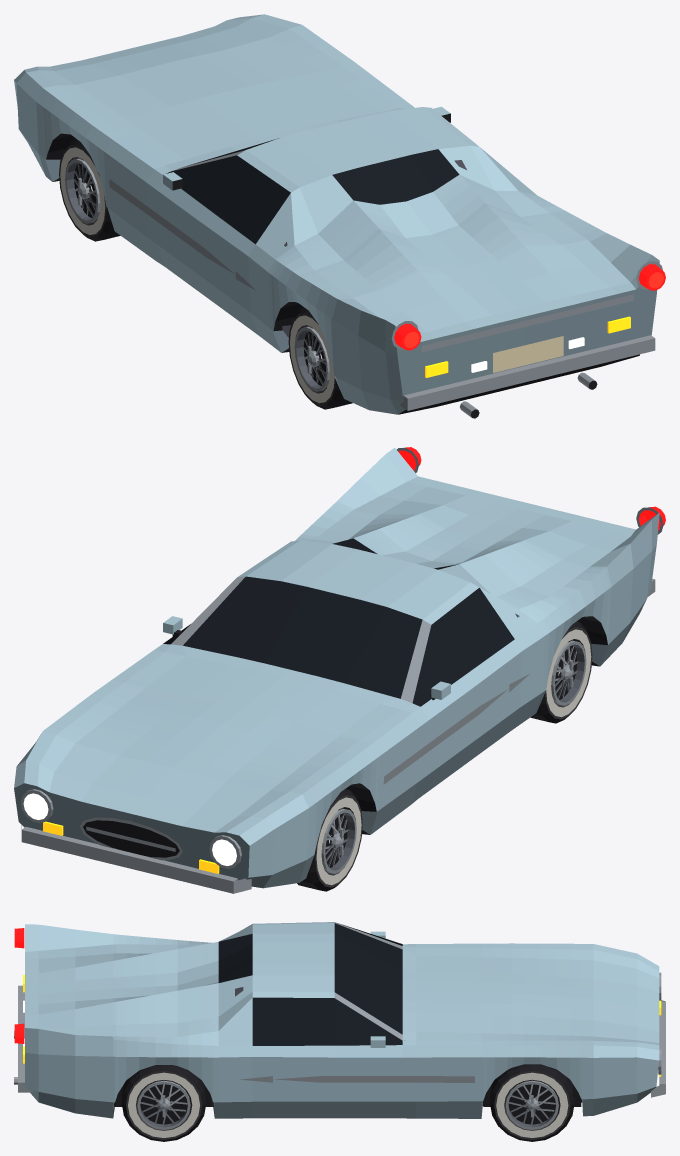
Rendered from coastliner.glb.
The picture shows the model from 3 angles, top to bottom: view 1: azimuth 30°, elevation 25°; view 2: azimuth 150°, elevation 25°; view 3: azimuth 270°, elevation 25°; orthographic projection. The views are drawn at different scales.
Parts seen in each view (by area): view 1: Body, Tire_FL, Tire_RL, Rim_FL, Rim_RL; view 2: Body, Tire_FL, Tire_RL, Rim_FL, Rim_RL; view 3: Body, Tire_FR, Tire_RR, Rim_FR, Rim_RR.
Boxes of the visible parts, x1=… form: Body: x1=14, y1=14, x2=662, y2=418; Tire_FL: x1=59, y1=139, x2=120, y2=241; Tire_RL: x1=288, y1=307, x2=352, y2=409; Rim_FL: x1=65, y1=158, x2=100, y2=223; Rim_RL: x1=294, y1=326, x2=329, y2=391; Body: x1=14, y1=447, x2=663, y2=893; Tire_FL: x1=297, y1=789, x2=362, y2=891; Tire_RL: x1=530, y1=621, x2=592, y2=723; Rim_FL: x1=321, y1=808, x2=356, y2=873; Rim_RL: x1=551, y1=640, x2=586, y2=705; Body: x1=14, y1=922, x2=665, y2=1118; Tire_FR: x1=490, y1=1064, x2=574, y2=1141; Tire_RR: x1=121, y1=1065, x2=206, y2=1141; Rim_FR: x1=505, y1=1080, x2=558, y2=1129; Rim_RR: x1=137, y1=1080, x2=190, y2=1129.
Bounding box in the file's own units: 1.9 × 1.13 × 4.78.
